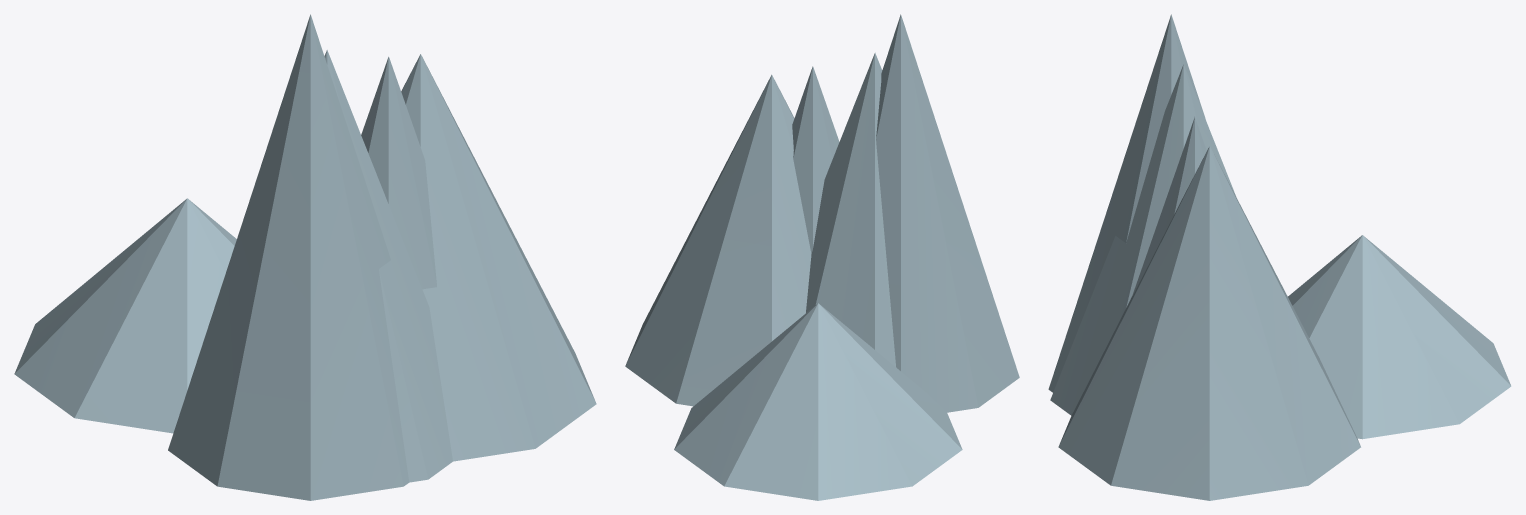
The model's file is ice_spire-03.glb.
3 views of the same model, side by side, from view 1: azimuth 30°, elevation 25°; view 2: azimuth 150°, elevation 25°; view 3: azimuth 270°, elevation 25° (orthographic). The views are drawn at different scales.
Parts seen in each view (by area): view 1: world; view 2: world; view 3: world.
Part boxes in pixels (x1,y1,x2,y2): world: (14, 14, 596, 500); world: (625, 14, 1019, 500); world: (1048, 14, 1511, 500).
Bounding box in the file's own units: 1.27 × 1.17 × 1.34.
